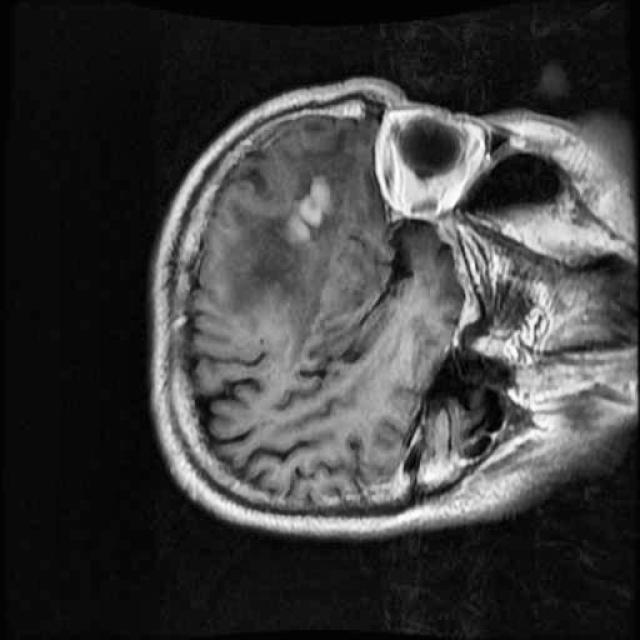Tumor: (269, 164, 352, 256)
